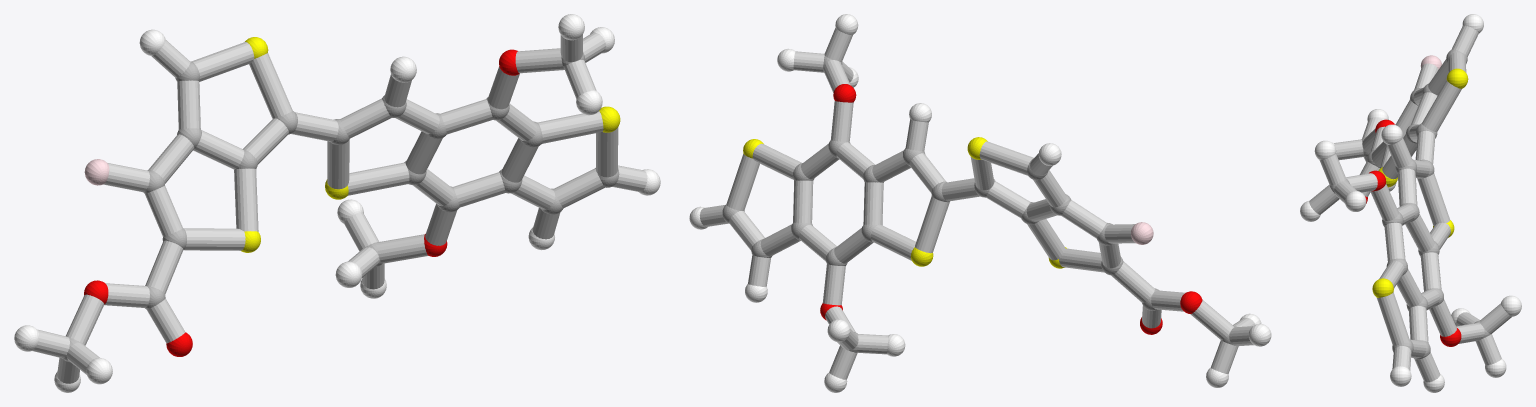
Rendered from Dimethoxy_Benzodithiophene_Phi_10_Theta_50_Methylcarbonyl_3_Fluoro_Thienothiophene.glb.
3 views of the same model, side by side, from view 1: azimuth 30°, elevation 25°; view 2: azimuth 150°, elevation 25°; view 3: azimuth 270°, elevation 25° (orthographic). The views are drawn at different scales.
Visible parts, largest first — view 1: grp15205, grp8689, grp1, grp13395, grp7241; view 2: grp15205, grp8689, grp1, grp13395, grp7241; view 3: grp15205, grp8689, grp1, grp7241, grp13395.
Boxes of the visible parts, x1=… form: grp15205: x1=32, y1=32, x2=647, y2=383; grp8689: x1=14, y1=14, x2=660, y2=392; grp1: x1=62, y1=52, x2=619, y2=361; grp13395: x1=84, y1=49, x2=519, y2=356; grp7241: x1=241, y1=37, x2=620, y2=252; grp15205: x1=699, y1=28, x2=1255, y2=379; grp8689: x1=689, y1=14, x2=1271, y2=392; grp1: x1=722, y1=56, x2=1236, y2=352; grp13395: x1=820, y1=84, x2=1202, y2=334; grp7241: x1=743, y1=137, x2=1066, y2=268; grp15205: x1=1309, y1=25, x2=1511, y2=382; grp8689: x1=1300, y1=14, x2=1521, y2=392; grp1: x1=1330, y1=49, x2=1490, y2=359; grp7241: x1=1372, y1=68, x2=1468, y2=297; grp13395: x1=1365, y1=119, x2=1461, y2=346.
Bounding box in the file's own units: 17.1 × 8.38 × 6.2.
